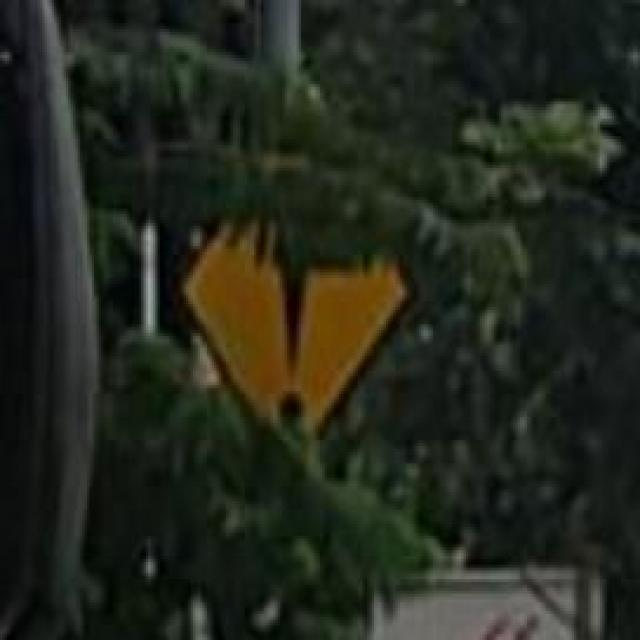traffic sign: (186, 206, 412, 423)
